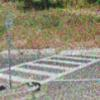crosswalks: (0, 52, 98, 83)
